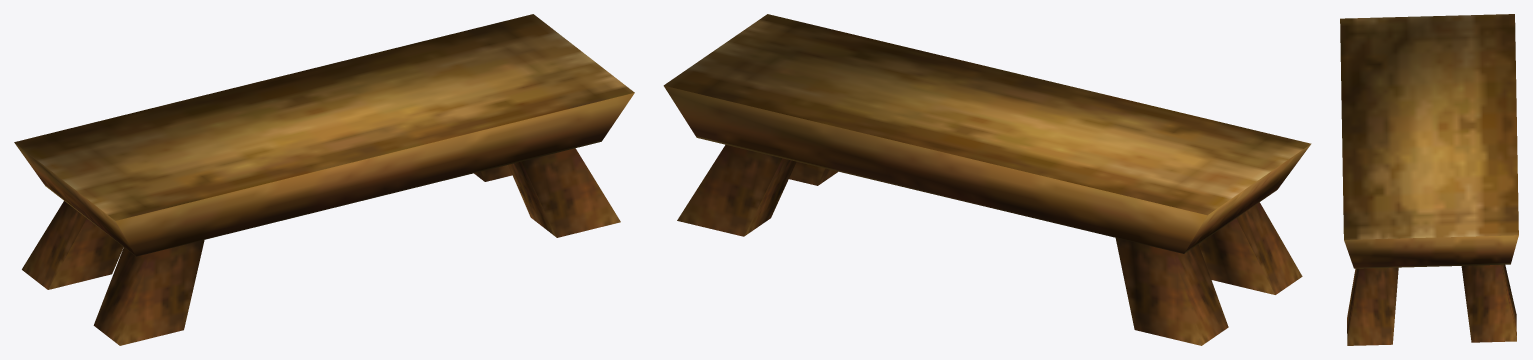
File: environment_common_xiaobandeng_001.FBX
3 views of the same model, side by side, from view 1: azimuth 30°, elevation 25°; view 2: azimuth 150°, elevation 25°; view 3: azimuth 270°, elevation 25° (orthographic). The views are drawn at different scales.
Parts seen in each view (by area): view 1: environment_common_xiaobandeng_001; view 2: environment_common_xiaobandeng_001; view 3: environment_common_xiaobandeng_001.
Boxes of the visible parts, x1,y1,x2,y2 form: environment_common_xiaobandeng_001: (14, 14, 634, 345); environment_common_xiaobandeng_001: (663, 14, 1311, 345); environment_common_xiaobandeng_001: (1340, 14, 1518, 345).
Bounding box in the file's own units: 131 × 31.96 × 44.66.
1 material, 1 textured.
